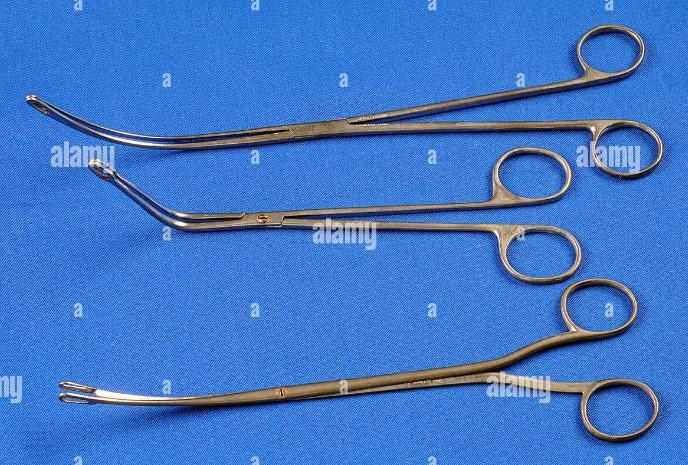Desjardin Forceps: (54, 277, 663, 444)
